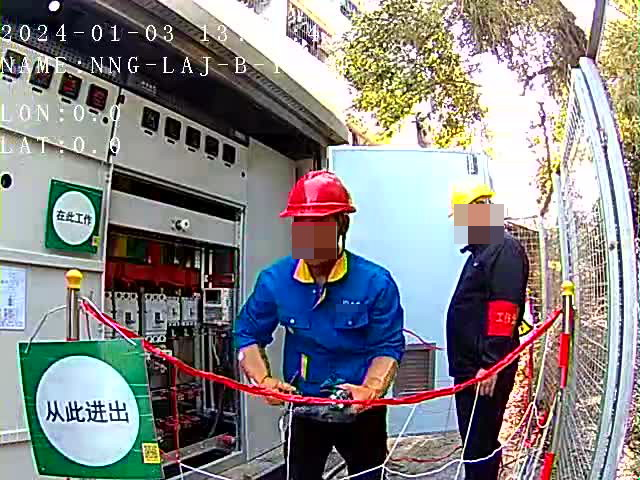badge: (487, 298, 518, 336)
downcloth: (284, 404, 390, 480), (449, 376, 516, 473)
halt: (283, 171, 360, 274), (450, 179, 502, 239)
hand: (471, 367, 497, 394)
inear: (474, 199, 494, 227)
intosign: (19, 342, 165, 480)
longglove: (235, 346, 293, 401), (341, 355, 396, 407)
person: (229, 167, 407, 480), (438, 176, 533, 479)
upcloth: (233, 250, 402, 392), (447, 231, 528, 374)
worksign: (47, 178, 99, 255)
